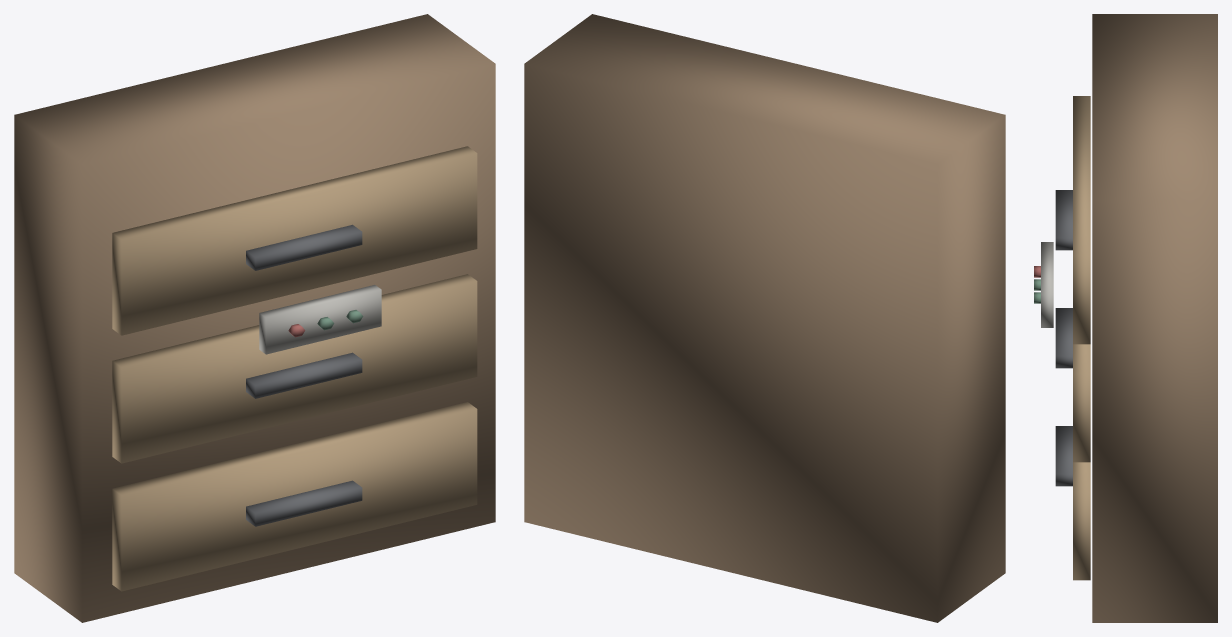
The model's file is medicine_cabinet__squat.glb.
3 renders of one model, left to right at view 1: azimuth 30°, elevation 25°; view 2: azimuth 150°, elevation 25°; view 3: azimuth 270°, elevation 25°, orthographic. The views are drawn at different scales.
Parts seen in each view (by area): view 1: world; view 2: world; view 3: world.
Boxes of the visible parts, x1=… form: world: x1=14, y1=14, x2=495, y2=622; world: x1=524, y1=14, x2=1005, y2=622; world: x1=1034, y1=14, x2=1217, y2=622.
Size of the model in its own units: 0.682 by 0.7224 by 0.2846.
